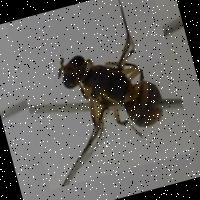Oriental-fruit-fly: (6, 0, 196, 189)
